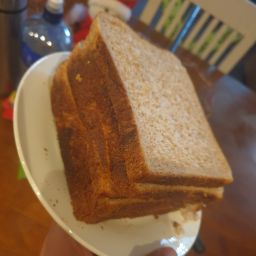Breads: (86, 9, 237, 227), (41, 10, 172, 249)
